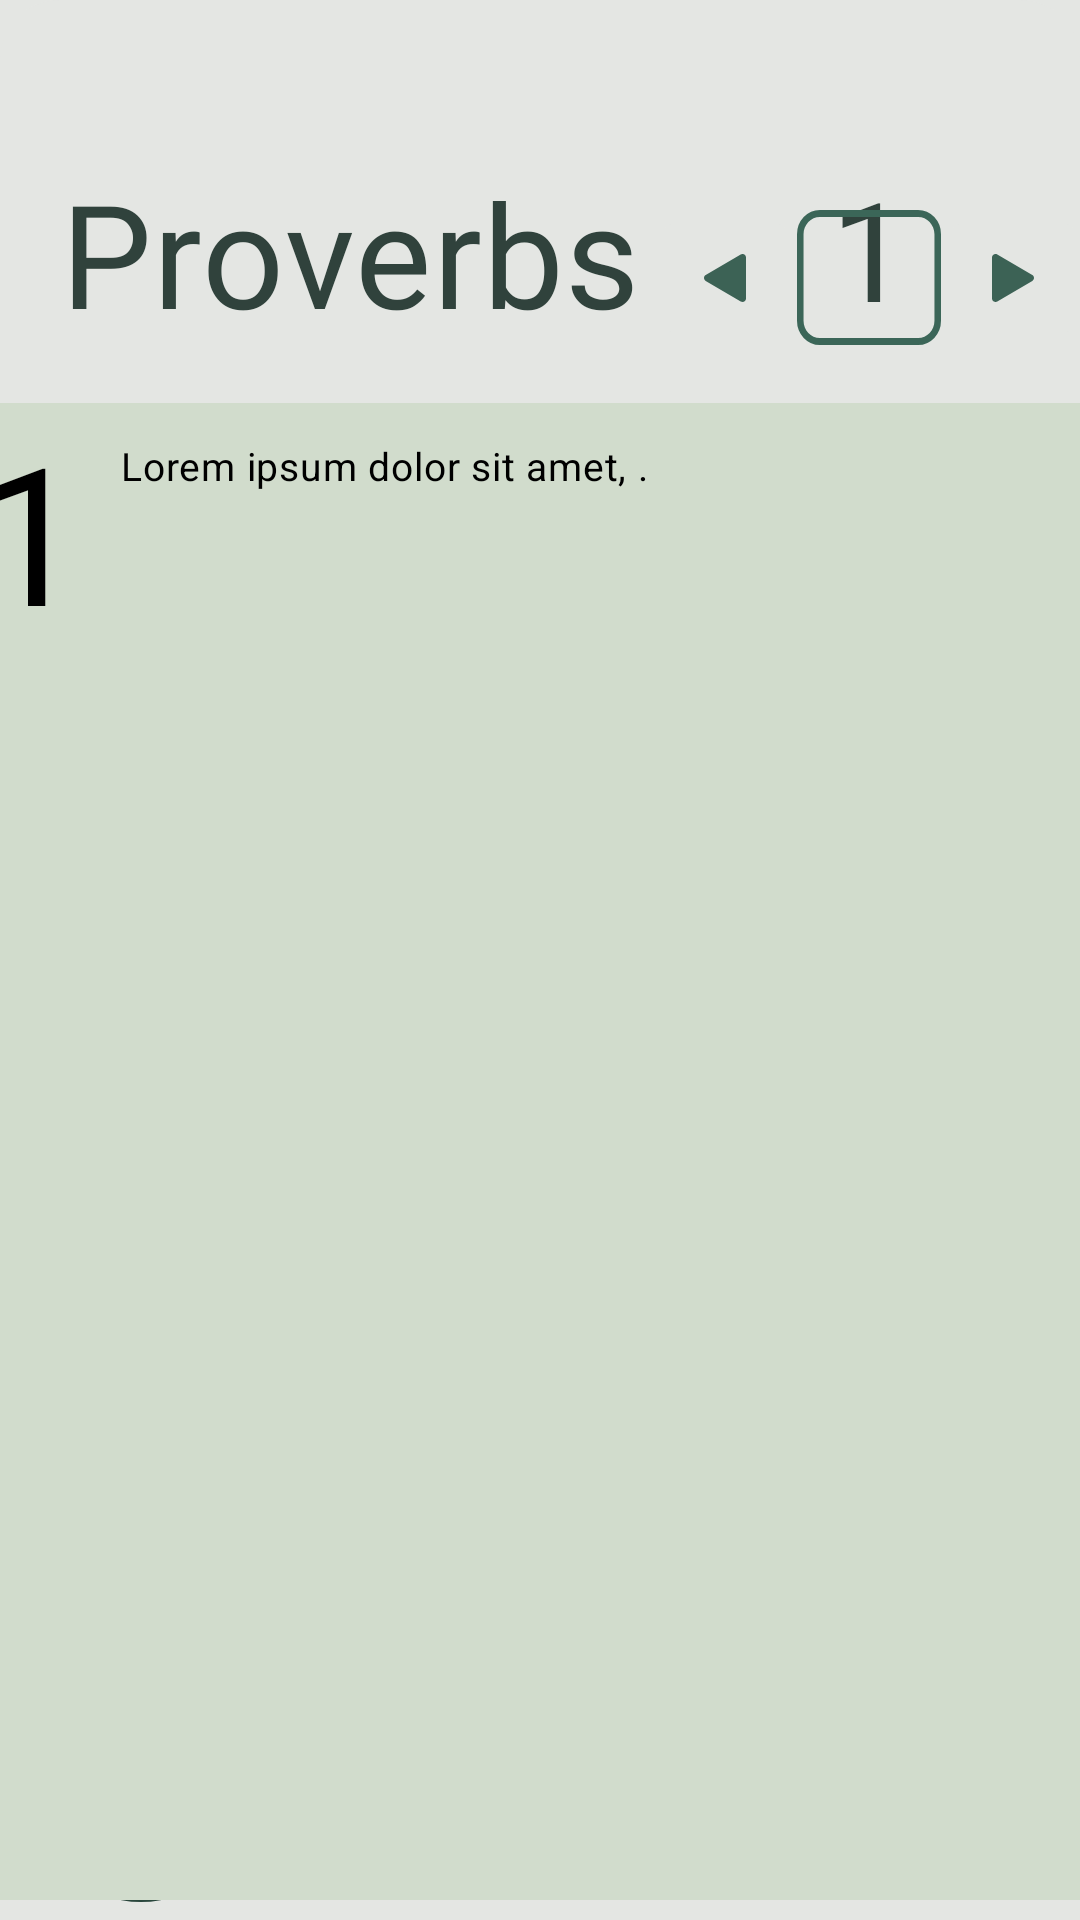

Where to tap for icons on this 1080px x 1920px app screen, as point (x, y):
next: point (1013, 278)
previous: point (725, 278)
